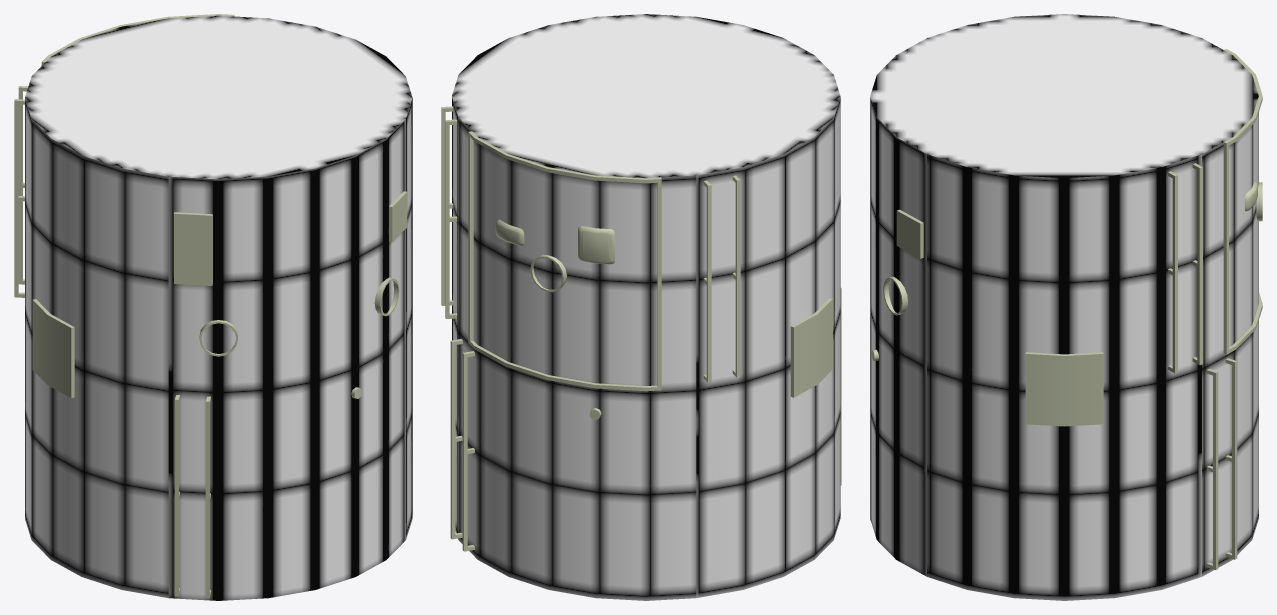
The model's file is tucana_crew_s2_1_interior.obj.
3 views of the same model, side by side, from view 1: azimuth 30°, elevation 25°; view 2: azimuth 150°, elevation 25°; view 3: azimuth 270°, elevation 25° (orthographic).
Parts seen in each view (by area): view 1: tucana_crew_s2_1_interior, tucana_crew_s2_1_mask; view 2: tucana_crew_s2_1_interior, tucana_crew_s2_1_mask; view 3: tucana_crew_s2_1_interior, tucana_crew_s2_1_mask.
Boxes of the visible parts, x1,y1,x2,y2 form: tucana_crew_s2_1_interior: (25, 15, 412, 600); tucana_crew_s2_1_mask: (14, 14, 407, 598); tucana_crew_s2_1_interior: (452, 14, 840, 600); tucana_crew_s2_1_mask: (441, 106, 841, 551); tucana_crew_s2_1_interior: (870, 14, 1258, 600); tucana_crew_s2_1_mask: (871, 49, 1262, 569).
Bounding box in the file's own units: 2.55 × 3 × 2.52.
2 materials, 1 textured.
